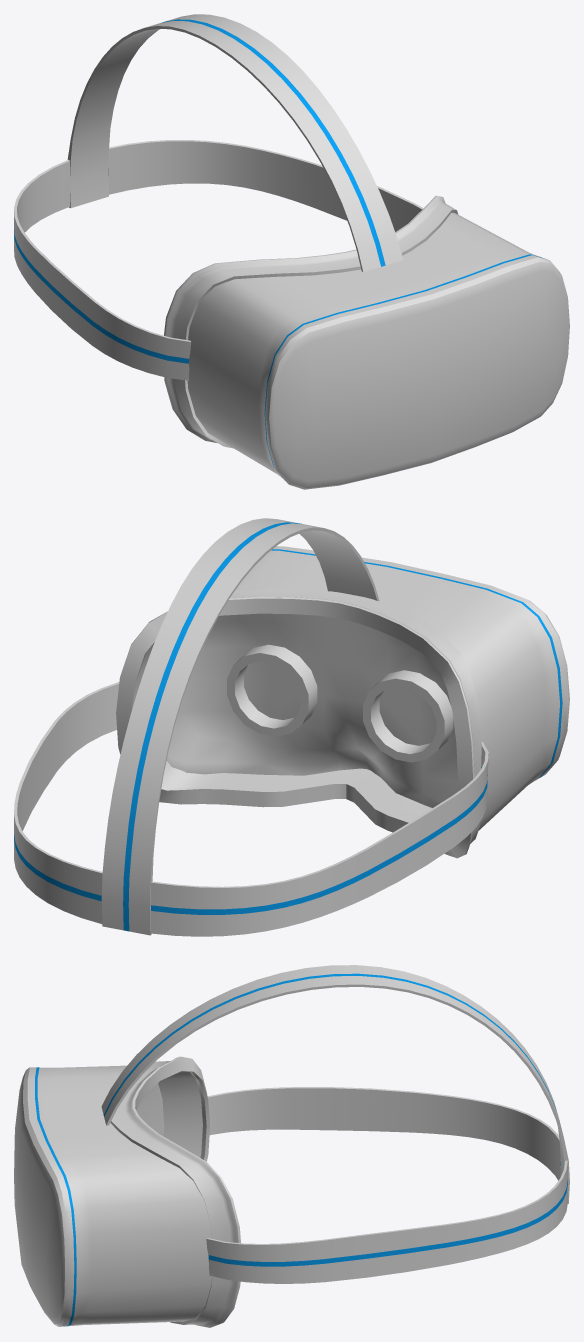
The model's file is SM_GafasVR.fbx.
3 views of the same model, one above another, from view 1: azimuth 30°, elevation 25°; view 2: azimuth 150°, elevation 25°; view 3: azimuth 270°, elevation 25° (orthographic). The views are drawn at different scales.
Parts seen in each view (by area): view 1: Gafas_body, Gafas_details; view 2: Gafas_body, Gafas_details; view 3: Gafas_body, Gafas_details.
Boxes of the visible parts, <box> form: Gafas_body: <box>14,14,569,489</box>; Gafas_details: <box>14,19,541,480</box>; Gafas_body: <box>14,518,569,936</box>; Gafas_details: <box>14,522,562,931</box>; Gafas_body: <box>14,965,569,1327</box>; Gafas_details: <box>35,973,567,1326</box>.
Size of the model in its own units: 23.48 by 20.07 by 34.46.
